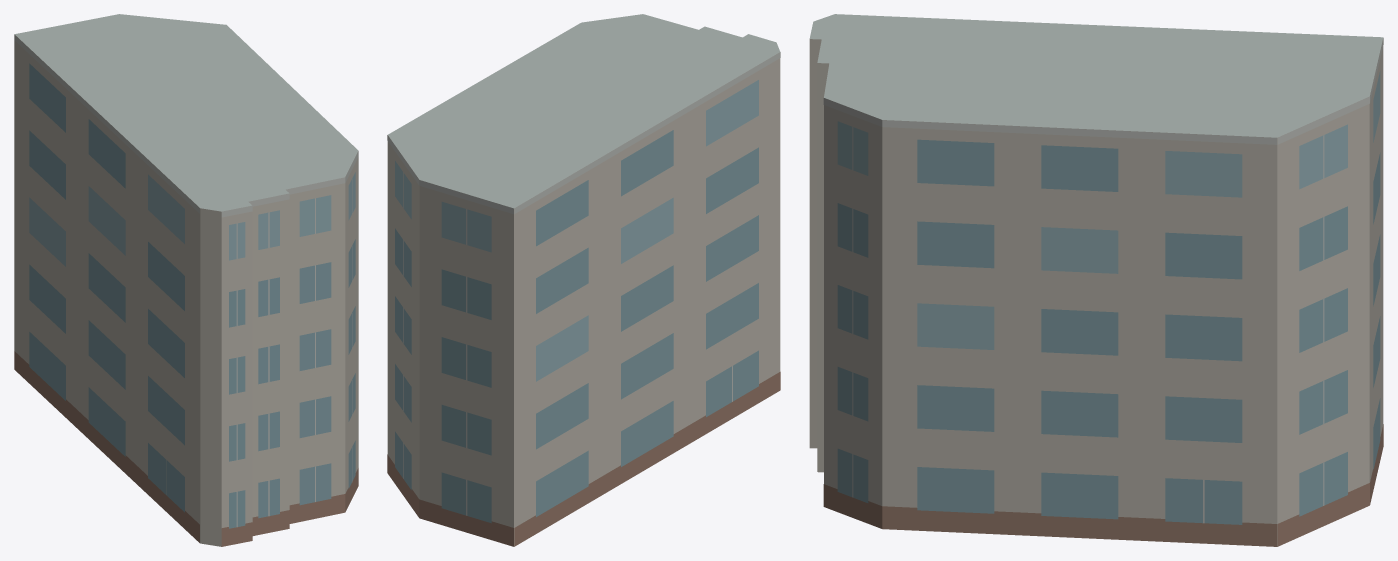
The model's file is survey-upis-32504583.glb.
The picture shows the model from 3 angles, left to right: view 1: azimuth 30°, elevation 25°; view 2: azimuth 150°, elevation 25°; view 3: azimuth 270°, elevation 25°; orthographic projection. The views are drawn at different scales.
Parts seen in each view (by area): view 1: survey-upis-32504583.tmp; view 2: survey-upis-32504583.tmp; view 3: survey-upis-32504583.tmp.
Part boxes in pixels (bbox=[...]): survey-upis-32504583.tmp: bbox=[14, 14, 358, 546]; survey-upis-32504583.tmp: bbox=[387, 14, 780, 546]; survey-upis-32504583.tmp: bbox=[809, 14, 1383, 546].
Size of the model in its own units: 8.99 by 13.85 by 17.62.
